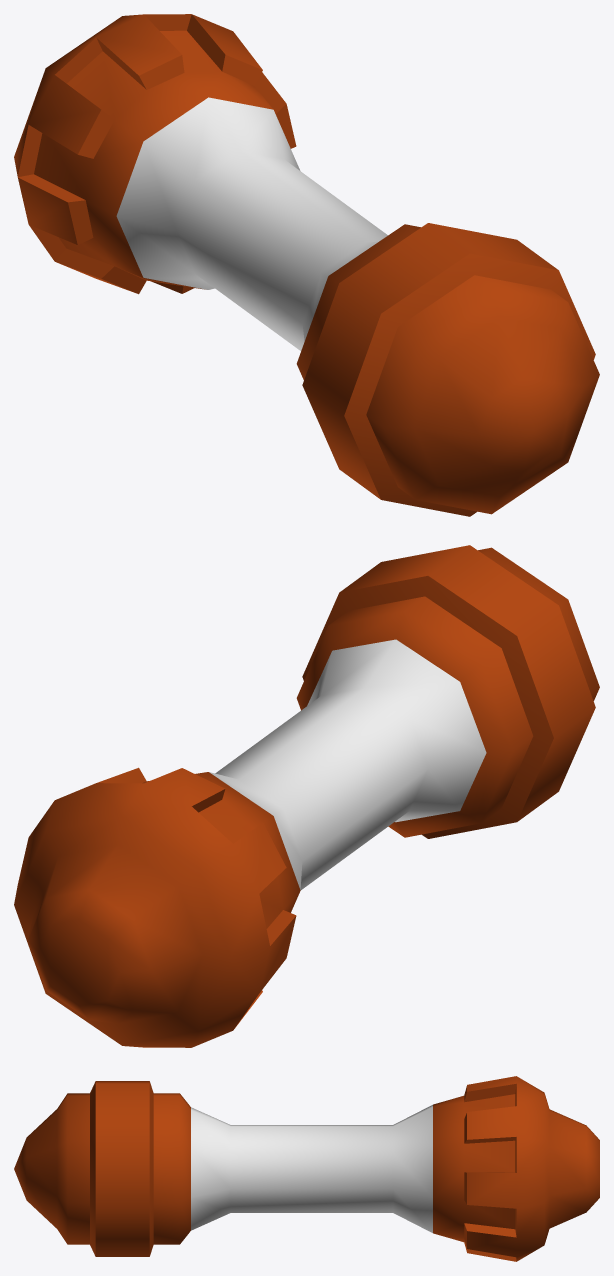
File: MetallicVirus.fbx
3 views of the same model, one above another, from view 1: azimuth 30°, elevation 25°; view 2: azimuth 150°, elevation 25°; view 3: azimuth 270°, elevation 25° (orthographic). The views are drawn at different scales.
Visible parts, largest first — view 1: polygon1.001, polygon0.001; view 2: polygon1.001, polygon0.001; view 3: polygon1.001, polygon0.001.
Part boxes in pixels (<box>): polygon1.001: <box>14,14,599,516</box>; polygon0.001: <box>116,97,387,350</box>; polygon1.001: <box>14,545,599,1047</box>; polygon0.001: <box>209,639,486,890</box>; polygon1.001: <box>14,1076,599,1261</box>; polygon0.001: <box>191,1105,432,1232</box>.
Size of the model in its own units: 12.34 by 12.34 by 38.45.
